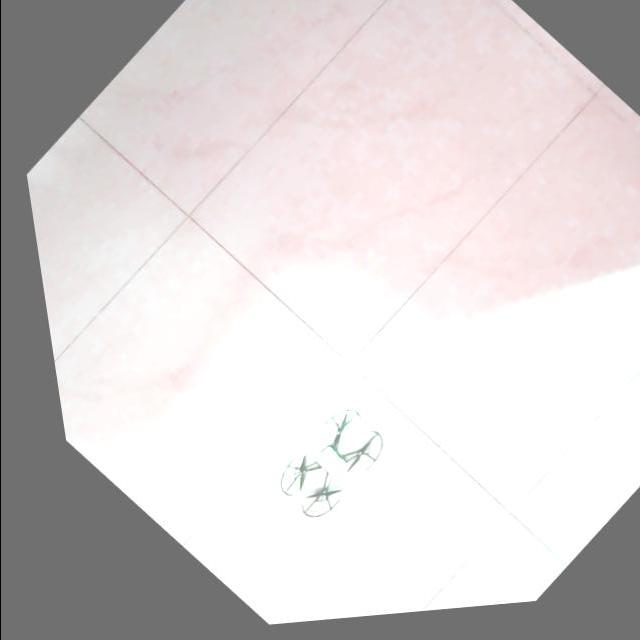drone: (262, 412, 368, 522)
